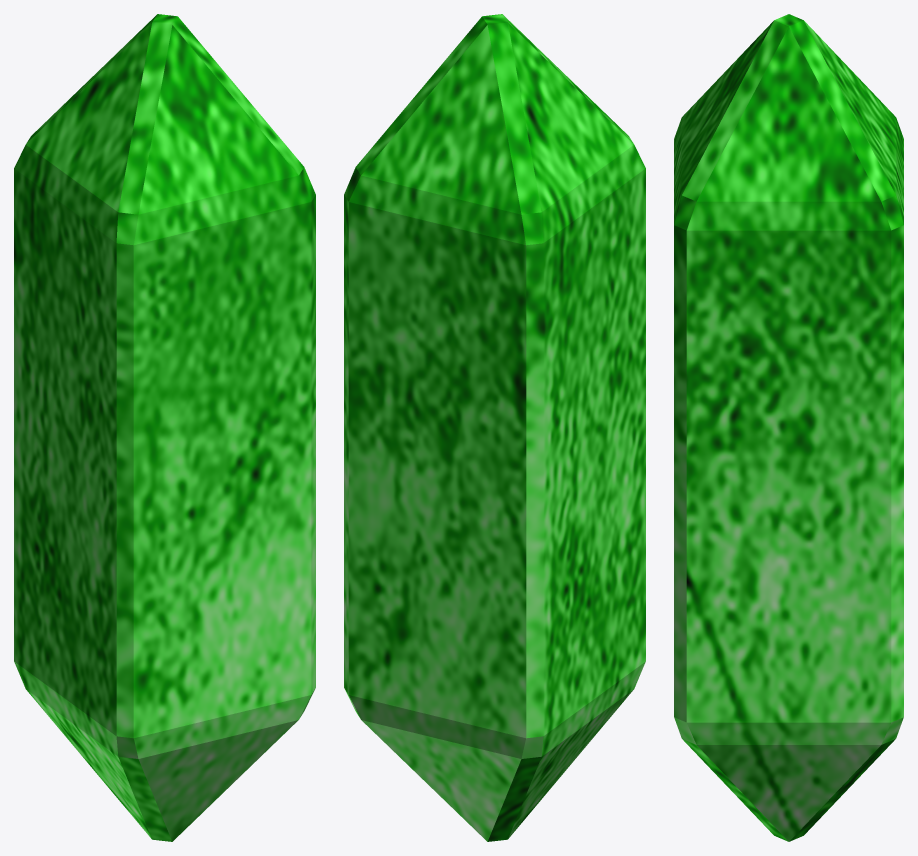
The model's file is pickle.obj.
3 views of the same model, side by side, from view 1: azimuth 30°, elevation 25°; view 2: azimuth 150°, elevation 25°; view 3: azimuth 270°, elevation 25° (orthographic).
Visible parts, largest first — view 1: Cube_Cube.001; view 2: Cube_Cube.001; view 3: Cube_Cube.001.
Boxes of the visible parts, x1=… form: Cube_Cube.001: x1=14, y1=14, x2=315, y2=841; Cube_Cube.001: x1=344, y1=14, x2=645, y2=841; Cube_Cube.001: x1=674, y1=14, x2=903, y2=841.
Size of the model in its own units: 0.8 by 3.13 by 0.8.
